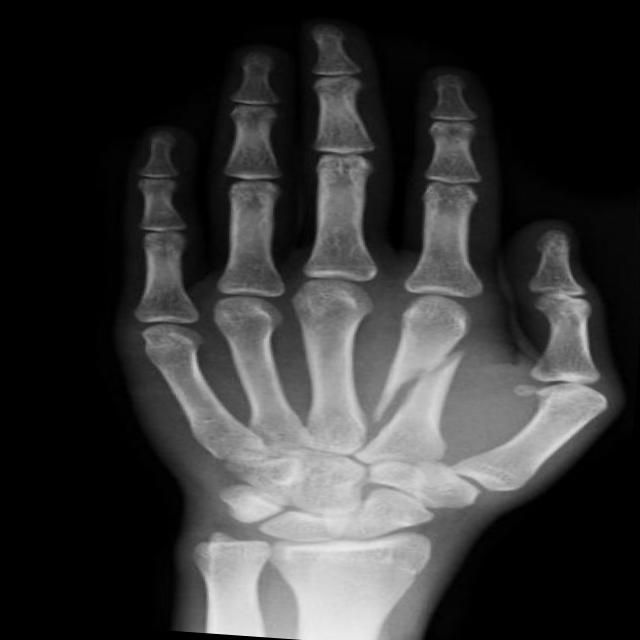Oblique Displaced: (356, 332, 496, 432)
